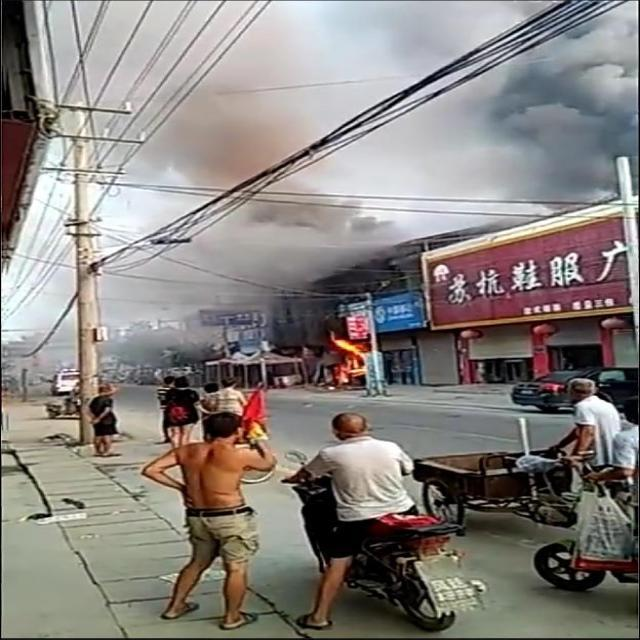Fire: (328, 337, 371, 382)
Smoke: (50, 0, 360, 228), (37, 184, 391, 382), (364, 0, 640, 211)
